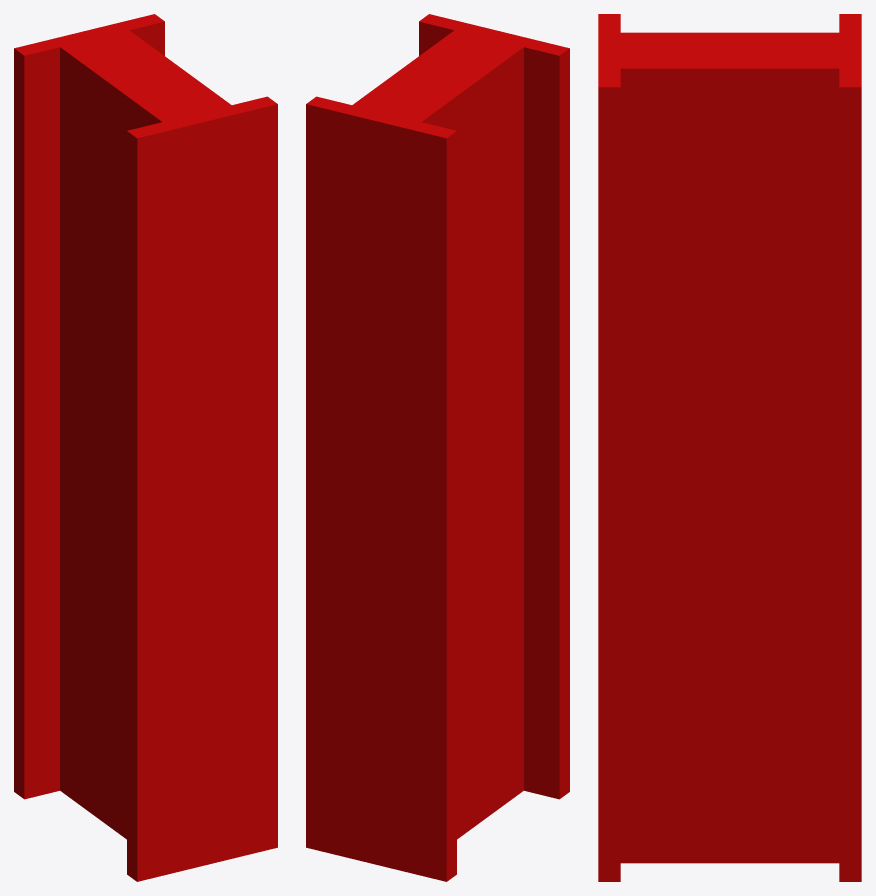
3 views of the same model, side by side, from view 1: azimuth 30°, elevation 25°; view 2: azimuth 150°, elevation 25°; view 3: azimuth 270°, elevation 25° (orthographic). The views are drawn at different scales.
Parts seen in each view (by area): view 1: Mesh; view 2: Mesh; view 3: Mesh.
Boxes of the visible parts, x1,y1,x2,y2 form: Mesh: (14,14,277,881); Mesh: (306,14,569,881); Mesh: (598,14,861,881).
Bounding box in the file's own units: 0.9898 × 5 × 1.5.
